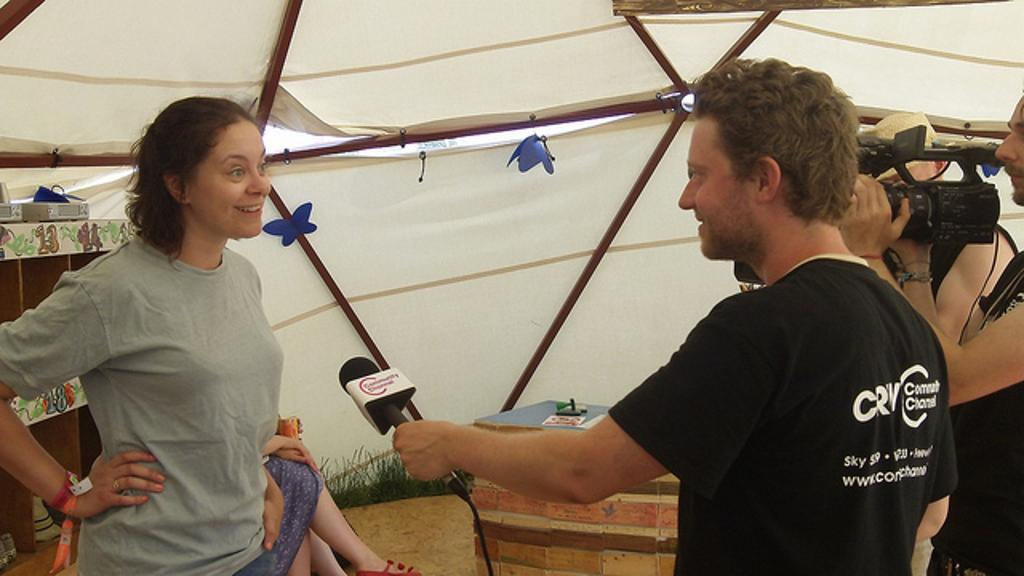face: (678, 112, 752, 258), (194, 118, 272, 238)
